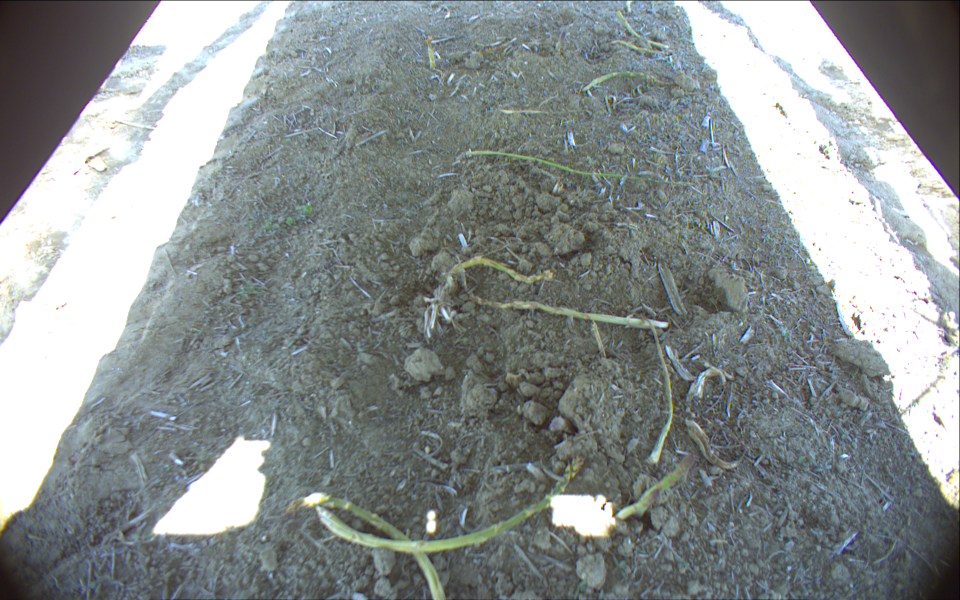aspa: (316, 453, 586, 554), (289, 492, 448, 600), (465, 150, 701, 189), (470, 294, 670, 332), (616, 450, 701, 521), (643, 321, 675, 465), (446, 256, 553, 286), (614, 11, 671, 50), (583, 70, 683, 92), (613, 40, 673, 56), (427, 35, 436, 71)
